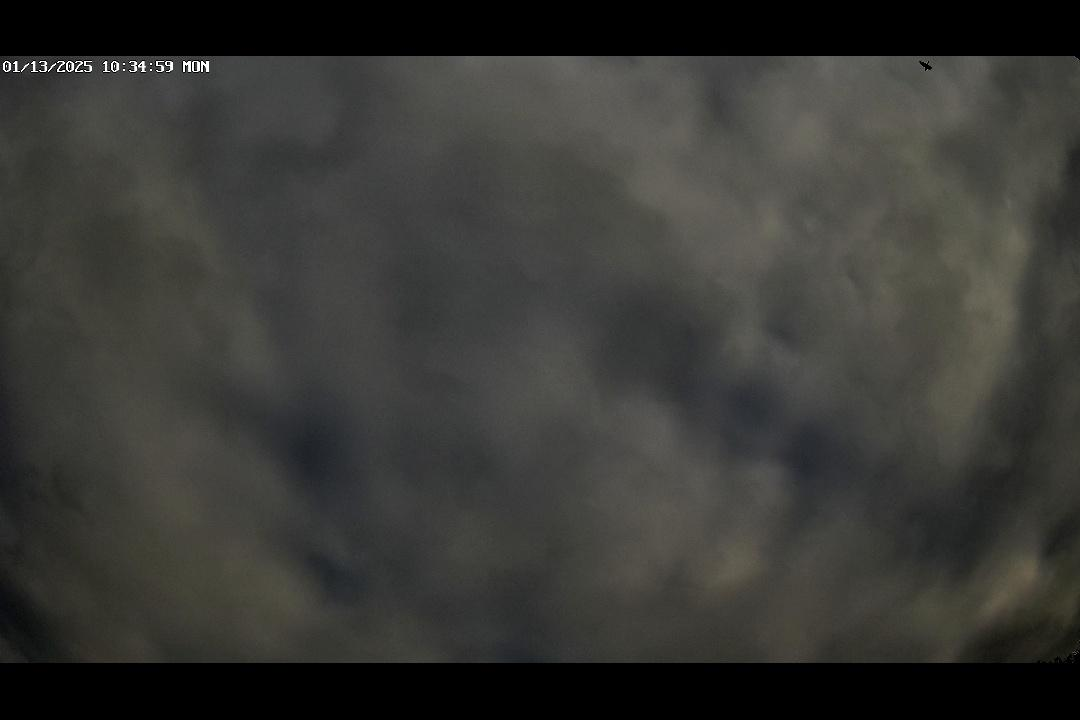WildLife: (901, 56, 954, 75)
